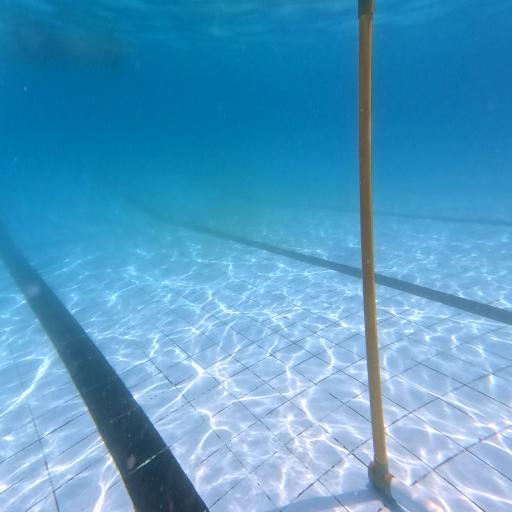pole_gate: (358, 1, 389, 494)
